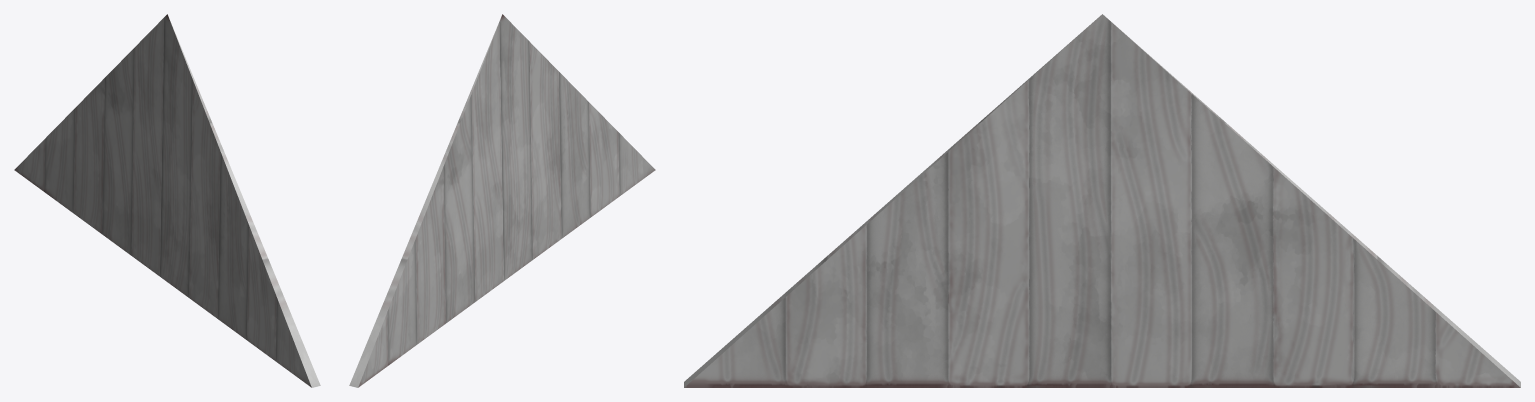
The model's file is Roof_Part.fbx.
3 views of the same model, side by side, from view 1: azimuth 30°, elevation 25°; view 2: azimuth 150°, elevation 25°; view 3: azimuth 270°, elevation 25° (orthographic). The views are drawn at different scales.
Visible parts, largest first — view 1: Wall; view 2: Wall; view 3: Wall.
Boxes of the visible parts, x1,y1,x2,y2 form: Wall: (14,14,320,387); Wall: (349,14,655,387); Wall: (684,14,1520,387).
Bounding box in the file's own units: 0.1715 × 4.89 × 10.
